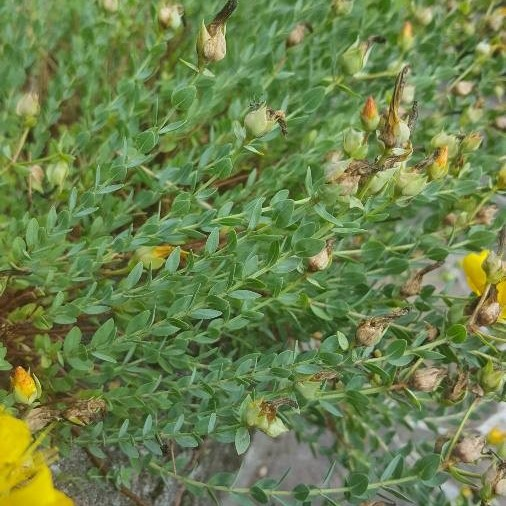obstacle: (80, 134, 405, 452)
